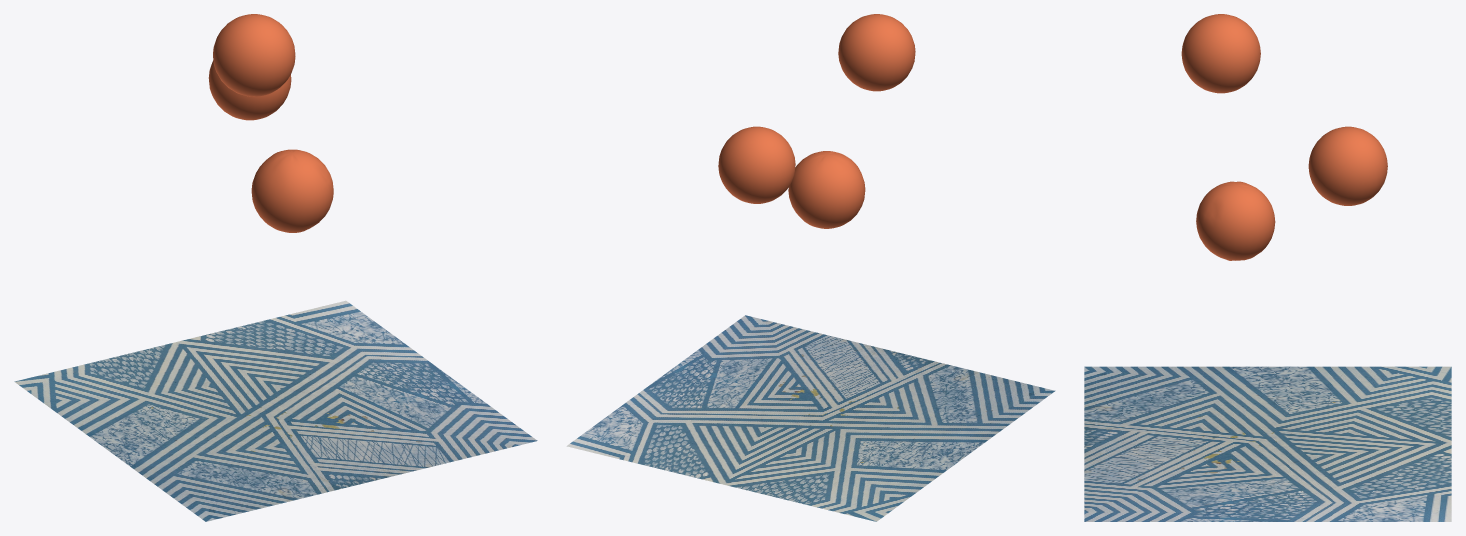
The model's file is bounces.fbx.
The picture shows the model from 3 angles, left to right: view 1: azimuth 30°, elevation 25°; view 2: azimuth 150°, elevation 25°; view 3: azimuth 270°, elevation 25°; orthographic projection. The views are drawn at different scales.
Visible parts, largest first — view 1: Plane, Sphere; view 2: Plane, Sphere; view 3: Plane, Sphere.
Boxes of the visible parts, box(x1,y1,x2,y2) form: Plane: box(14, 300, 537, 521); Sphere: box(208, 14, 333, 232); Plane: box(566, 315, 1055, 521); Sphere: box(718, 14, 915, 228); Plane: box(1084, 366, 1451, 521); Sphere: box(1181, 14, 1387, 260).
Bounding box in the file's own units: 581 × 706 × 581.
